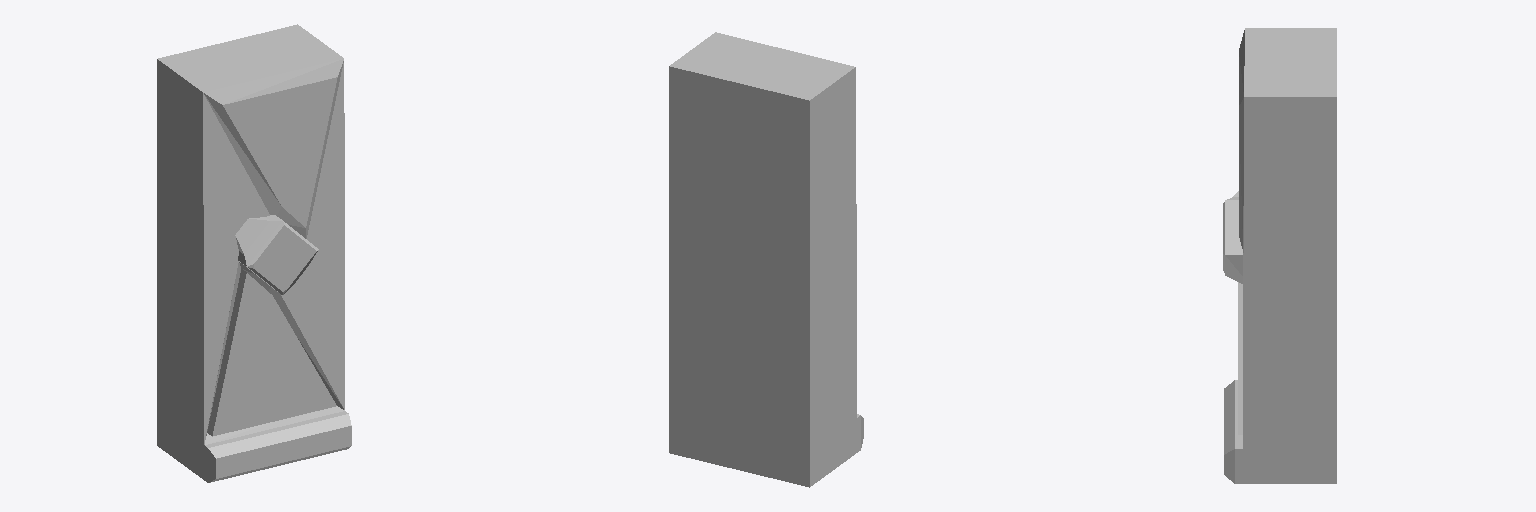
File: spearwall.obj
3 renders of one model, left to right at view 1: azimuth 30°, elevation 25°; view 2: azimuth 150°, elevation 25°; view 3: azimuth 270°, elevation 25°, orthographic.
Visible parts, largest first — view 1: Cube_Cube.003, Cube.001_Cube; view 2: Cube_Cube.003; view 3: Cube_Cube.003, Cube.001_Cube.
Part boxes in pixels (left/top/right/bottom): Cube_Cube.003: left=157, top=24, right=351, bottom=482; Cube.001_Cube: left=235, top=215, right=318, bottom=294; Cube_Cube.003: left=669, top=32, right=863, bottom=487; Cube_Cube.003: left=1224, top=28, right=1336, bottom=483; Cube.001_Cube: left=1223, top=191, right=1242, bottom=283.
Size of the model in its own units: 3.46 by 9.09 by 2.43.